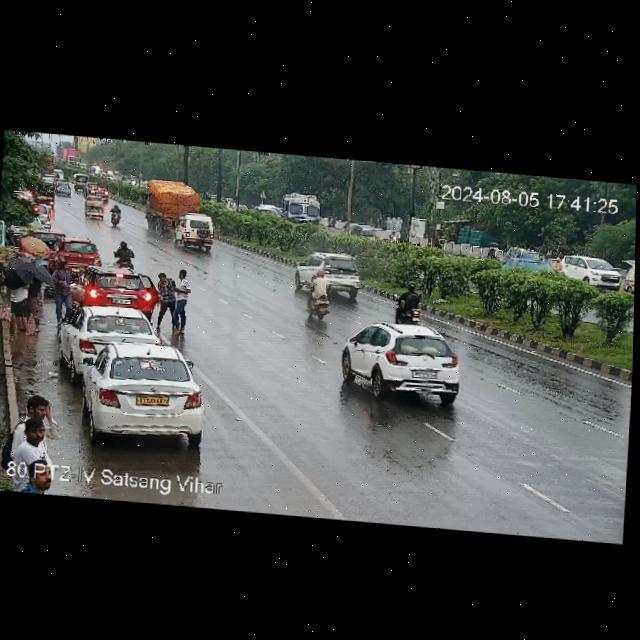car: (69, 338, 211, 446), (339, 322, 470, 407), (60, 304, 160, 367), (75, 266, 155, 317), (298, 251, 365, 297), (557, 253, 630, 290), (170, 213, 223, 254), (53, 238, 101, 270), (347, 225, 394, 244), (30, 221, 66, 245), (30, 200, 55, 230), (82, 184, 115, 202), (84, 198, 109, 219), (53, 180, 78, 197)
motorcycle: (303, 276, 336, 320), (392, 285, 429, 321), (107, 204, 126, 227), (485, 244, 500, 260)
person: (153, 266, 196, 339), (11, 394, 67, 444), (5, 267, 43, 328), (13, 423, 54, 468), (52, 263, 75, 326), (110, 239, 140, 273)
truck: (142, 181, 213, 228), (279, 190, 319, 228)
